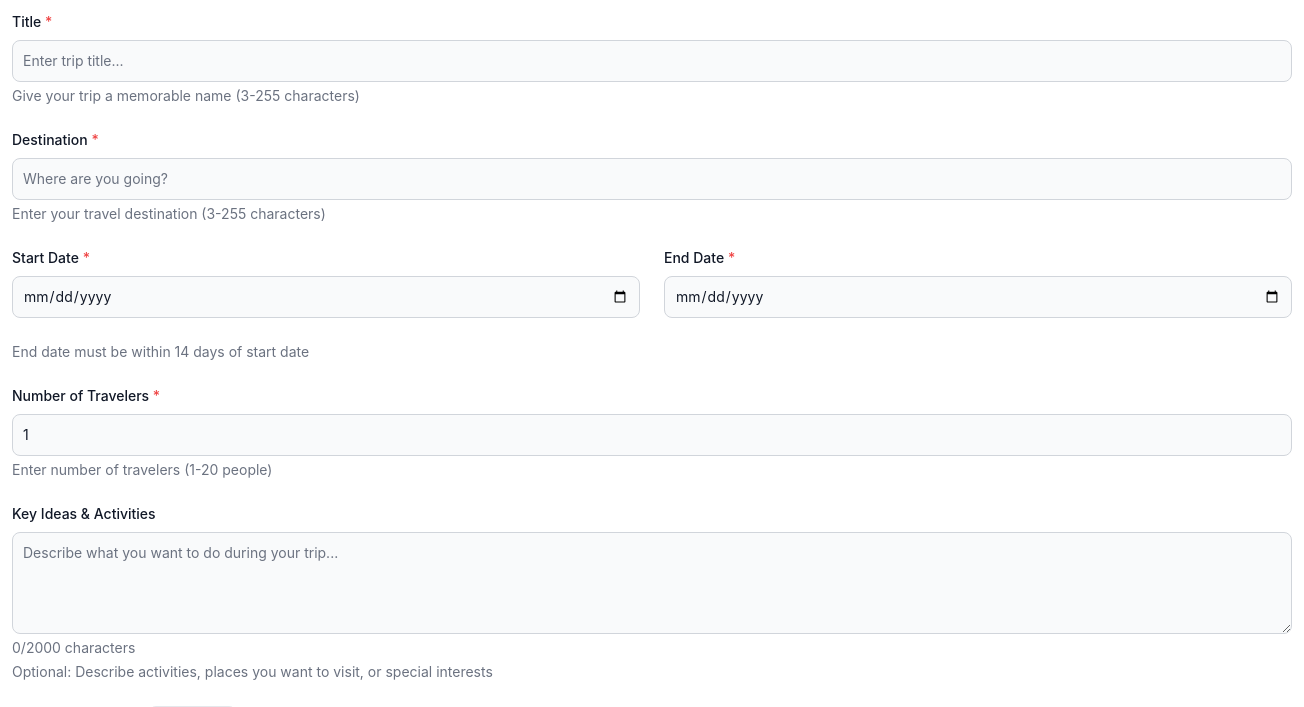
Test: NoteForm - Core Functionality › Basic Field Validation › should show error for number of people greater than 20
Replace the text in the number field labelled "Number of Travelers *" with "25" at [652, 435], box top-left (12, 414), bottom-right (1292, 456)
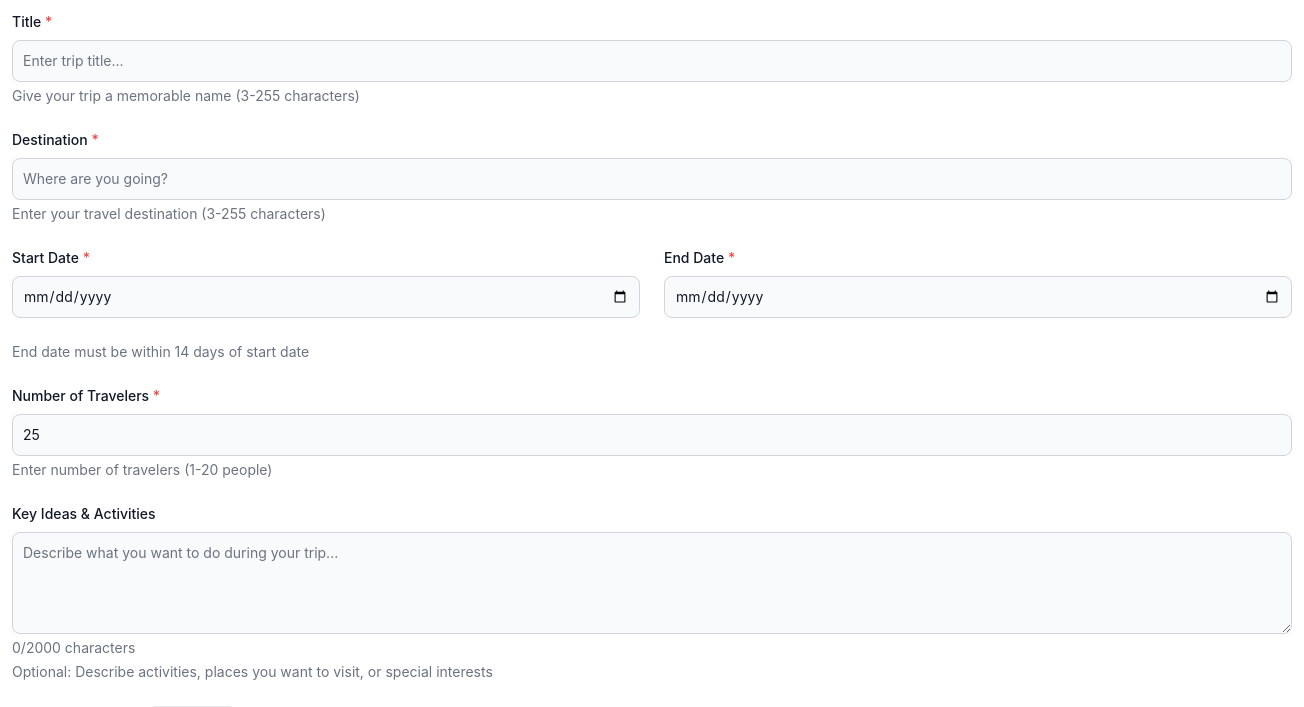
Leave the number field labelled "Number of Travelers *", box top-left (12, 414), bottom-right (1292, 456)
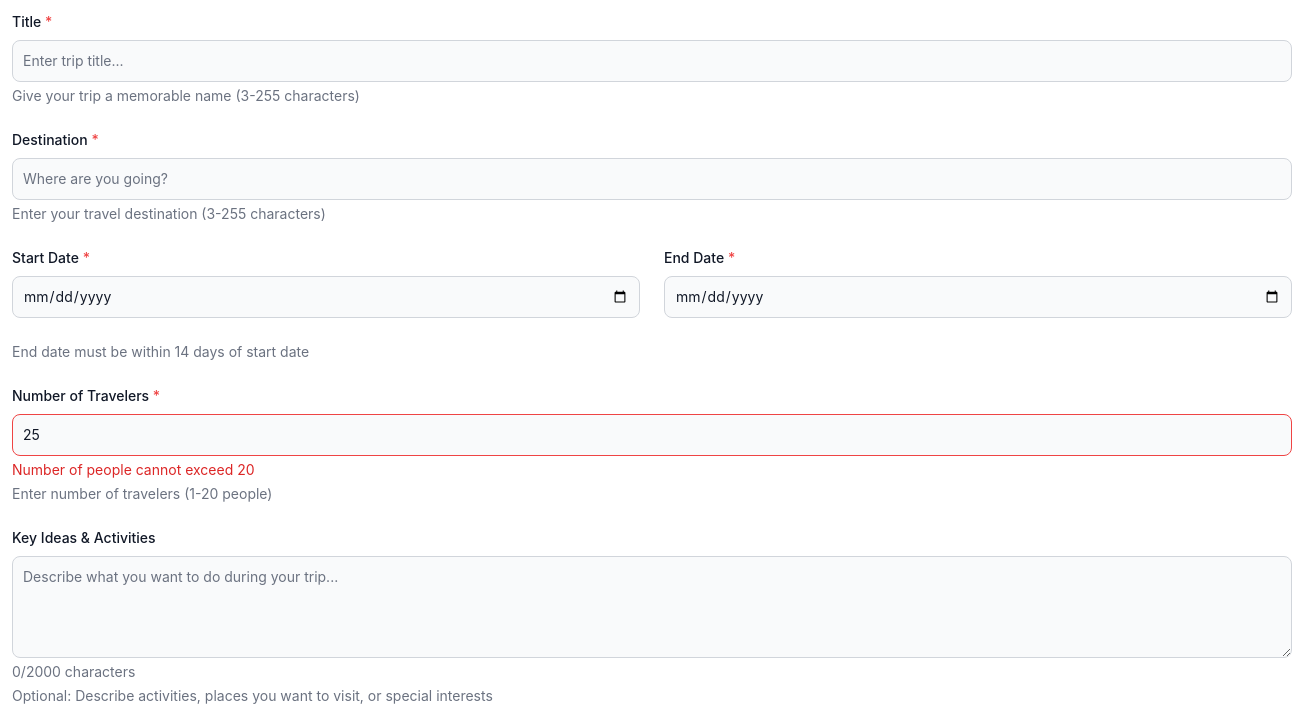
Result: the text "Number of people cannot exceed 20" is shown at top-left (12, 461), bottom-right (255, 478)
